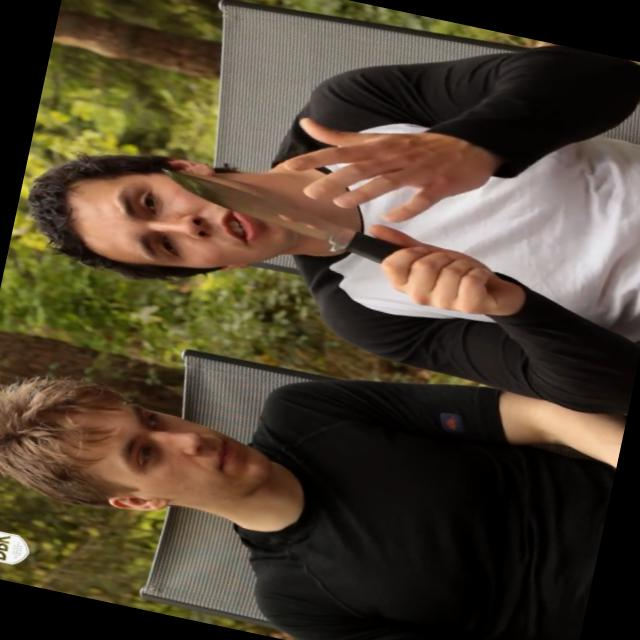knife: (132, 161, 504, 314)
